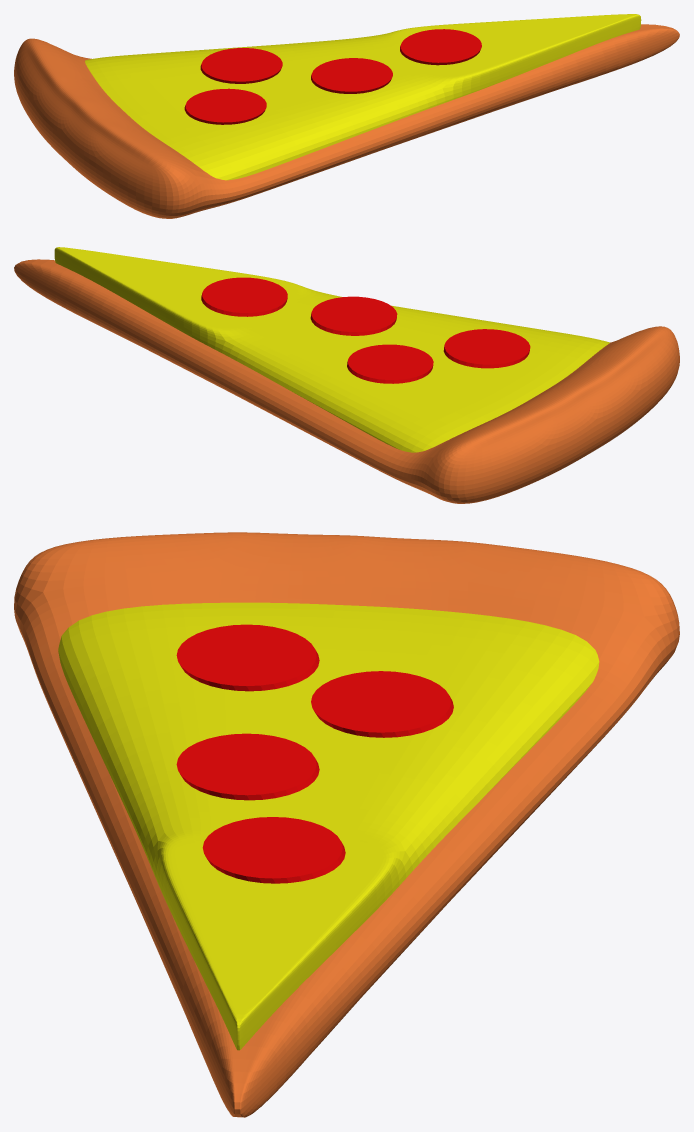
File: Pizza.fbx
The picture shows the model from 3 angles, top to bottom: view 1: azimuth 30°, elevation 25°; view 2: azimuth 150°, elevation 25°; view 3: azimuth 270°, elevation 25°; orthographic projection. The views are drawn at different scales.
Parts seen in each view (by area): view 1: Circle.005, Circle, Circle.001, Circle.003, Circle.004, Circle.002; view 2: Circle.005, Circle, Circle.002, Circle.001, Circle.003, Circle.004; view 3: Circle.005, Circle, Circle.002, Circle.004, Circle.001, Circle.003.
Part boxes in pixels (<box>): Circle.005: <box>85,14,641,180</box>; Circle: <box>14,24,679,218</box>; Circle.001: <box>184,88,266,124</box>; Circle.003: <box>311,58,392,93</box>; Circle.004: <box>400,29,481,65</box>; Circle.002: <box>200,48,282,83</box>; Circle.005: <box>54,247,609,452</box>; Circle: <box>14,259,679,503</box>; Circle.002: <box>347,344,433,383</box>; Circle.001: <box>443,329,530,368</box>; Circle.003: <box>310,296,397,335</box>; Circle.004: <box>201,277,287,316</box>; Circle.005: <box>58,602,599,1050</box>; Circle: <box>14,532,679,1117</box>; Circle.002: <box>311,671,453,737</box>; Circle.004: <box>202,817,345,883</box>; Circle.001: <box>176,624,319,691</box>; Circle.003: <box>176,733,319,800</box>.
Size of the model in its own units: 97.79 by 10.11 by 54.
